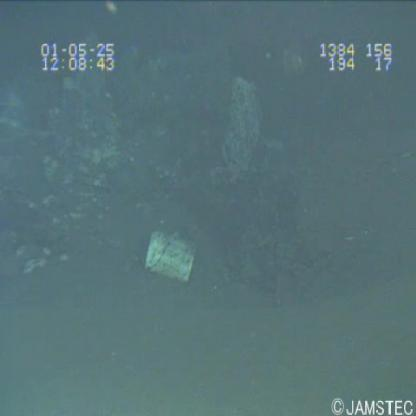Rác: (140, 222, 200, 293)
